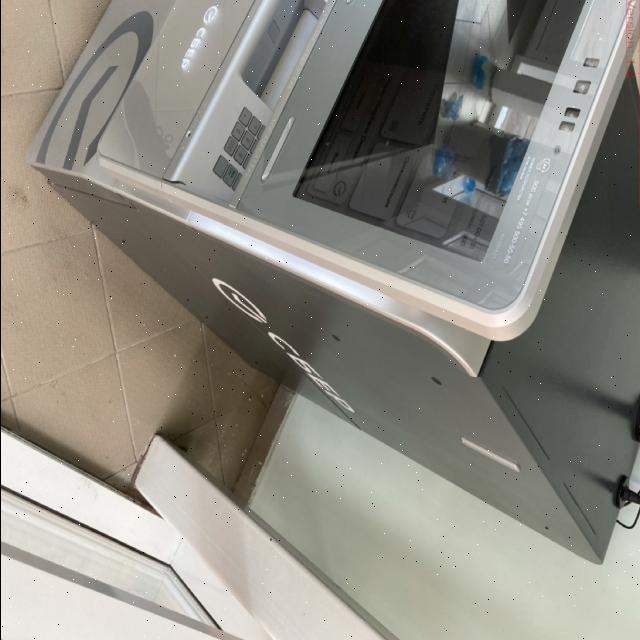bank: (33, 0, 640, 566)
